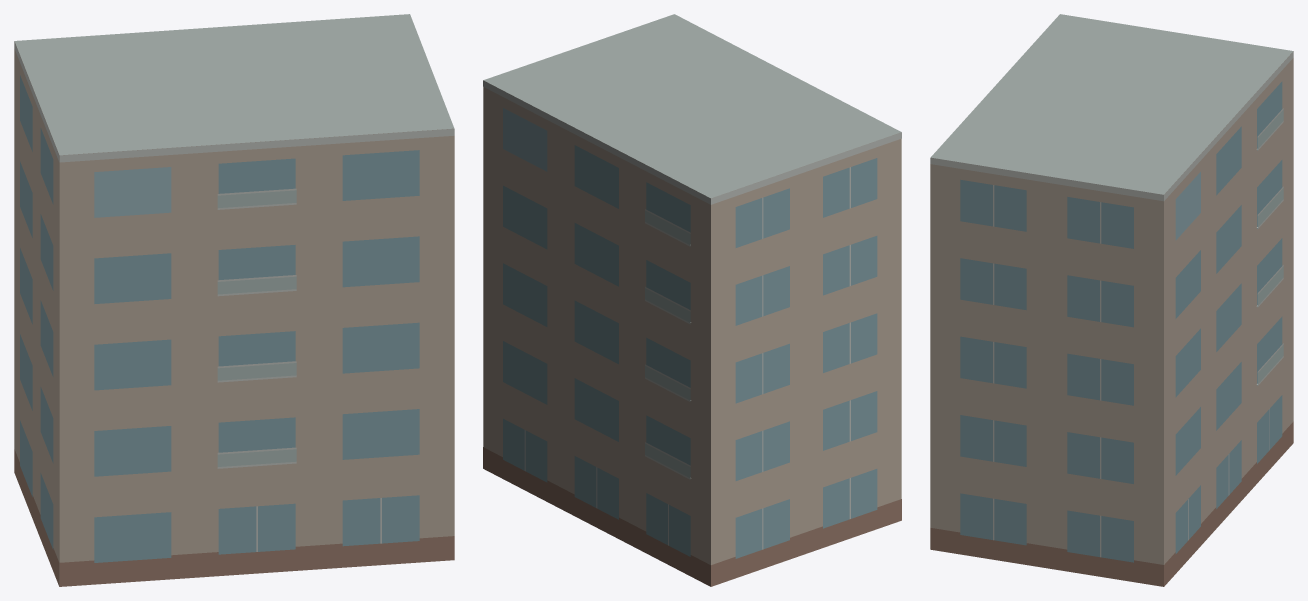
Rendered from survey-upis-32538469.glb.
3 views of the same model, side by side, from view 1: azimuth 30°, elevation 25°; view 2: azimuth 150°, elevation 25°; view 3: azimuth 270°, elevation 25° (orthographic). The views are drawn at different scales.
Parts seen in each view (by area): view 1: survey-upis-32538469.tmp; view 2: survey-upis-32538469.tmp; view 3: survey-upis-32538469.tmp.
Part boxes in pixels (bbox=[...]): survey-upis-32538469.tmp: bbox=[14, 14, 454, 586]; survey-upis-32538469.tmp: bbox=[483, 14, 901, 586]; survey-upis-32538469.tmp: bbox=[930, 14, 1293, 586].
Size of the model in its own units: 14.55 by 14.7 by 12.35.
